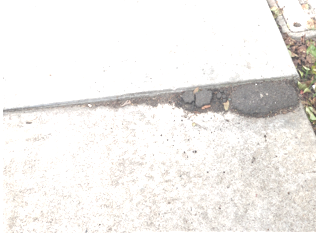Edge: (265, 1, 315, 131)
Uplift: (111, 73, 304, 117)
